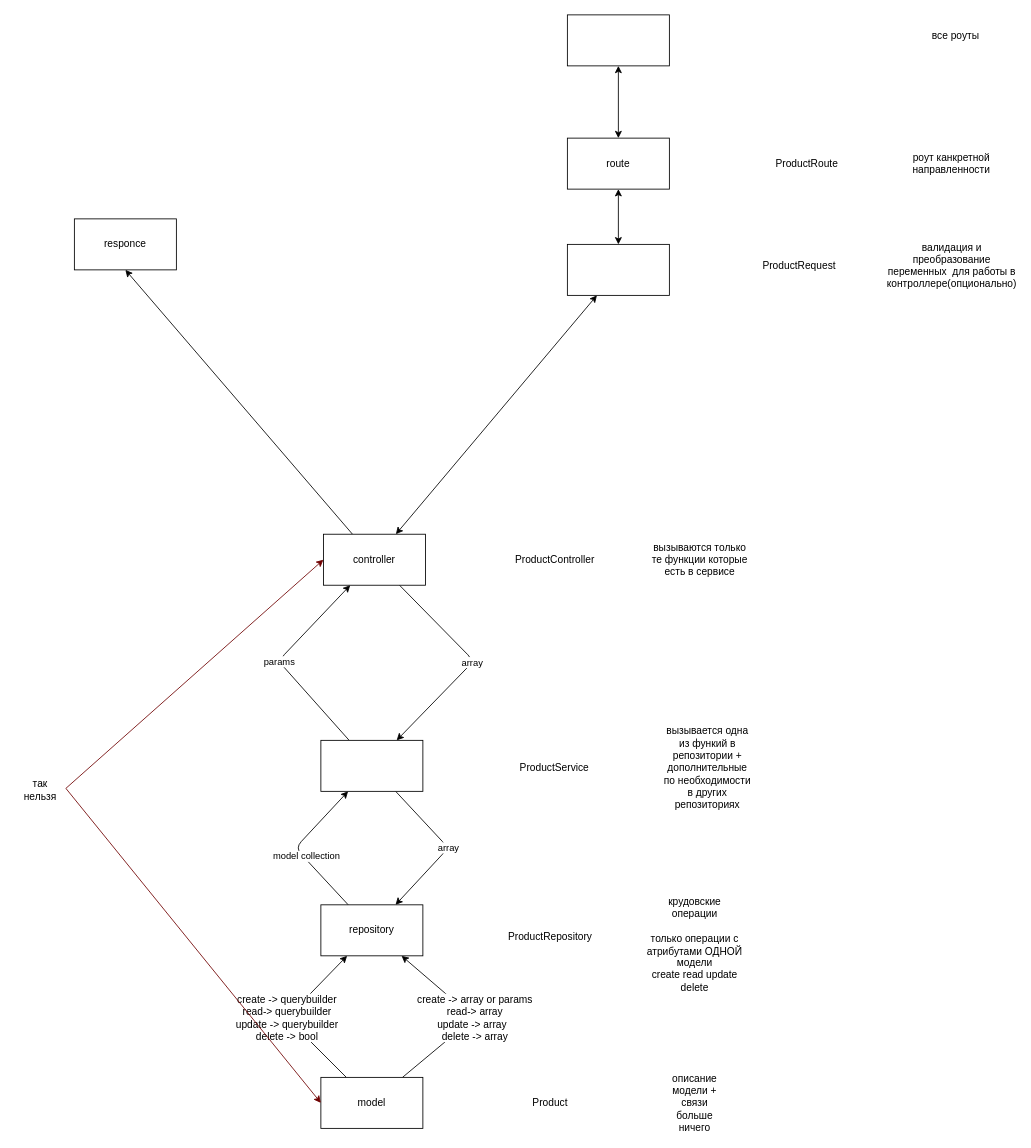
This 1031x1148 diagram has some shape labels left out. Each missing label, with the centre of its shape:
"request" belongs at point (618, 269).
"service" belongs at point (371, 765).
"web" belongs at point (618, 40).
